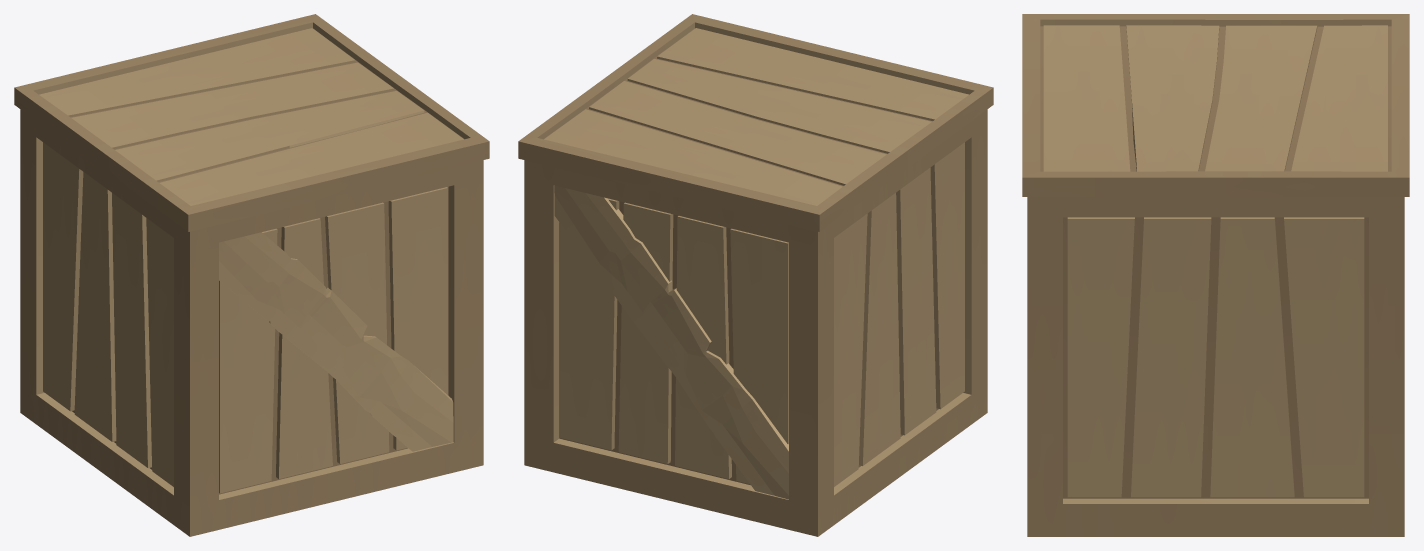
3 views of the same model, side by side, from view 1: azimuth 30°, elevation 25°; view 2: azimuth 150°, elevation 25°; view 3: azimuth 270°, elevation 25° (orthographic). The views are drawn at different scales.
Visible parts, largest first — view 1: box, plank_2; view 2: box, plank_1; view 3: box.
Boxes of the visible parts, x1,y1,x2,y2 form: box: (14, 14, 489, 536); plank_2: (219, 232, 453, 451); box: (518, 14, 993, 536); plank_1: (554, 185, 788, 499); box: (1022, 14, 1409, 536).
Bounding box in the file's own units: 1.13 × 1.16 × 1.13.
1 material, 1 textured.
